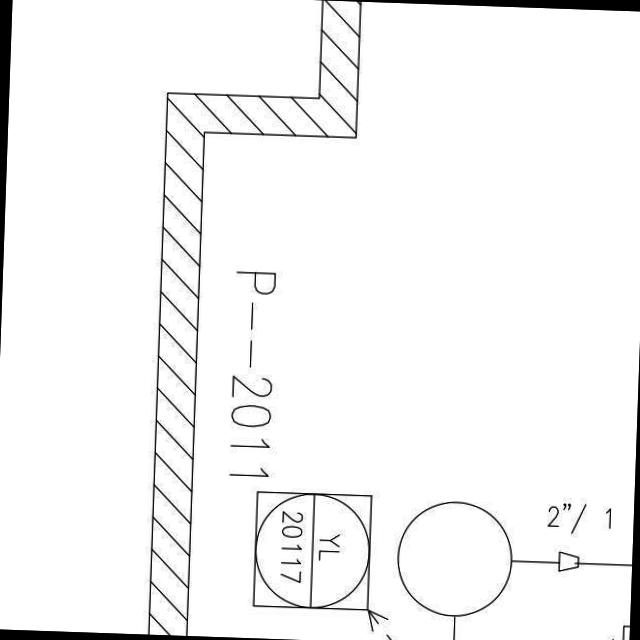SP: (550, 550, 583, 577)
